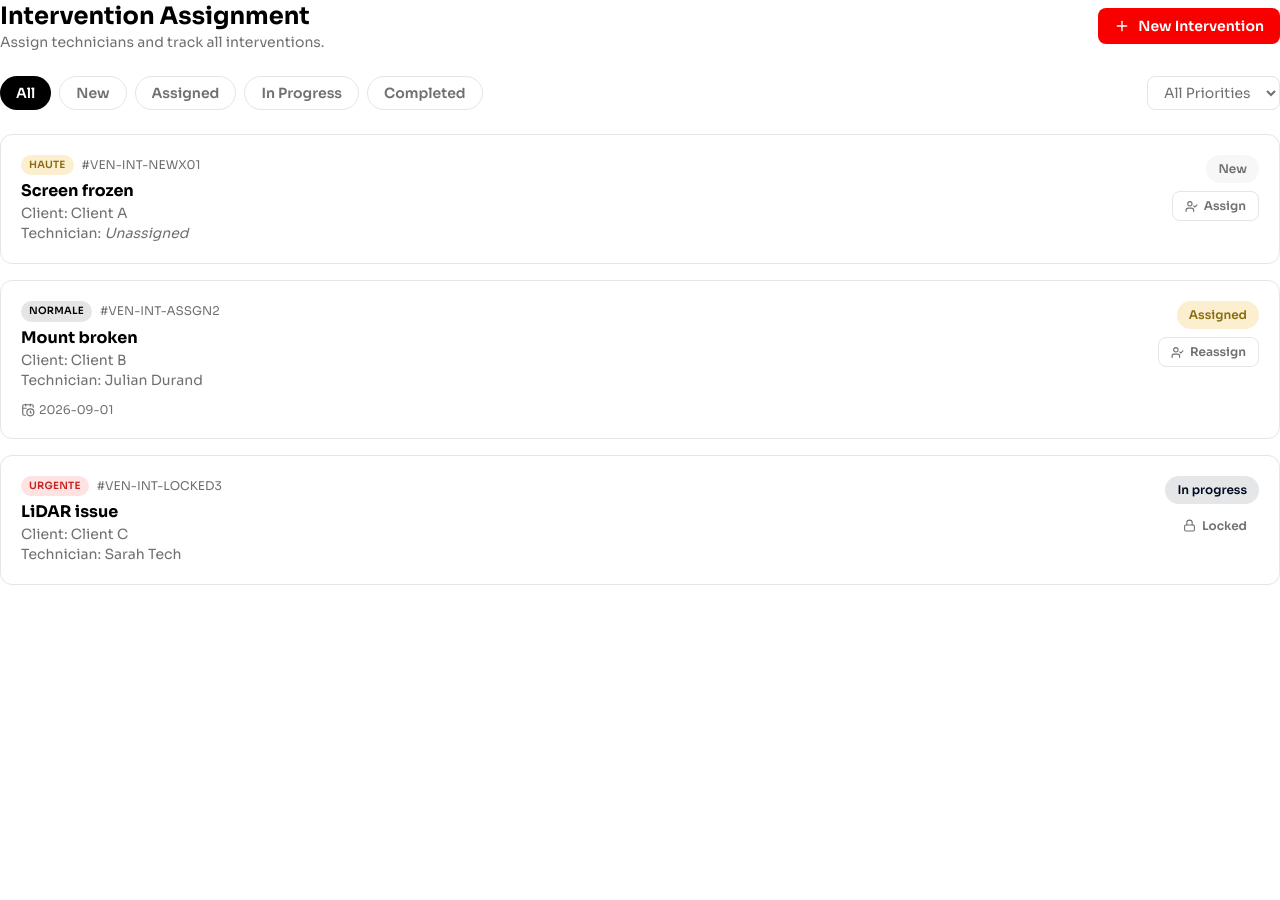
Test case: Admin InterventionAssignment › shows a generic error on a non-422 intervention creation failure
Check: the heading "Screen frozen" is shown, box left=21, top=180, right=134, bottom=201
Click the button "New Intervention": coordinates (1189, 26) left=1098, top=8, right=1279, bottom=44
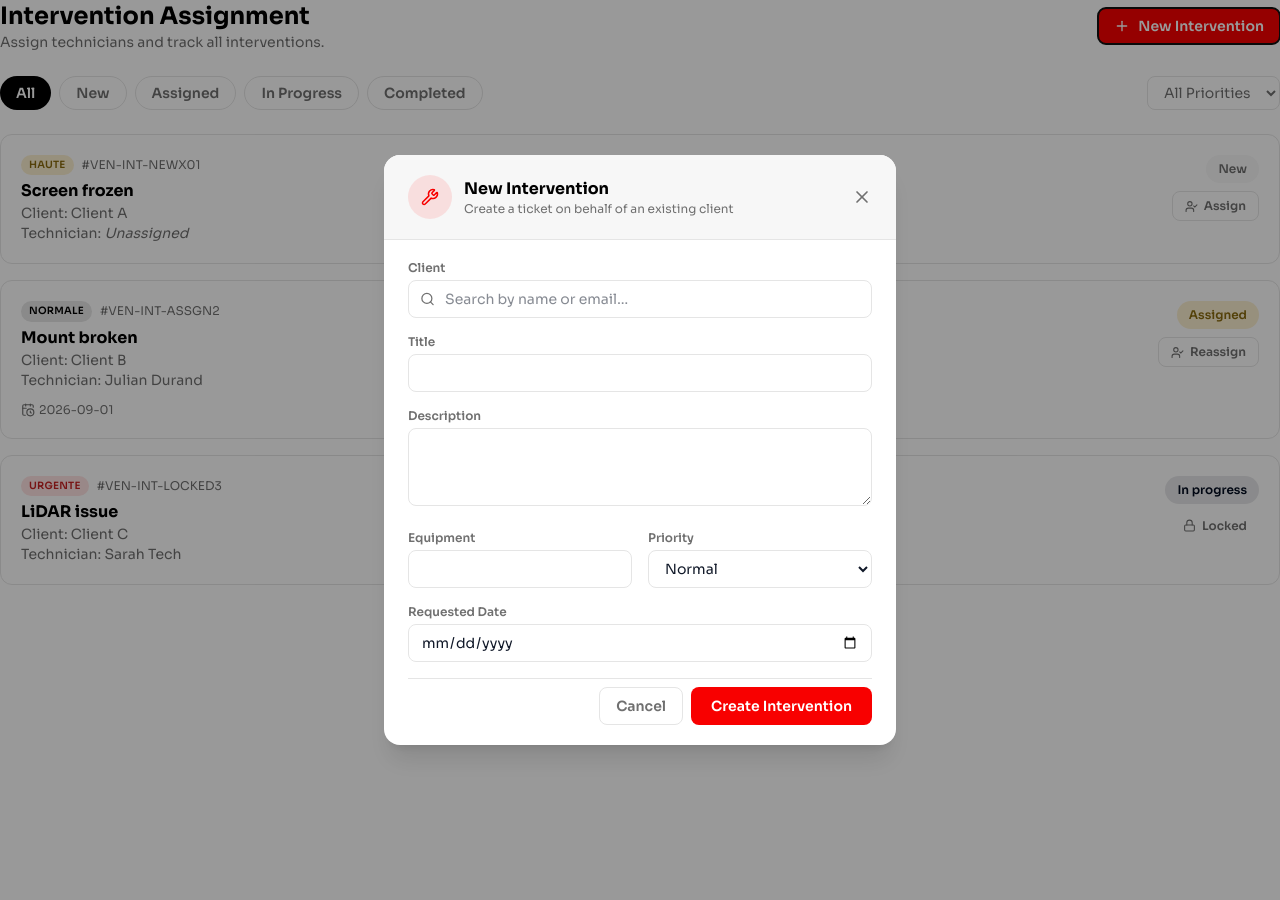
In the field labelled "Client": coordinates (640, 299) left=408, top=280, right=872, bottom=318, type "Elena"
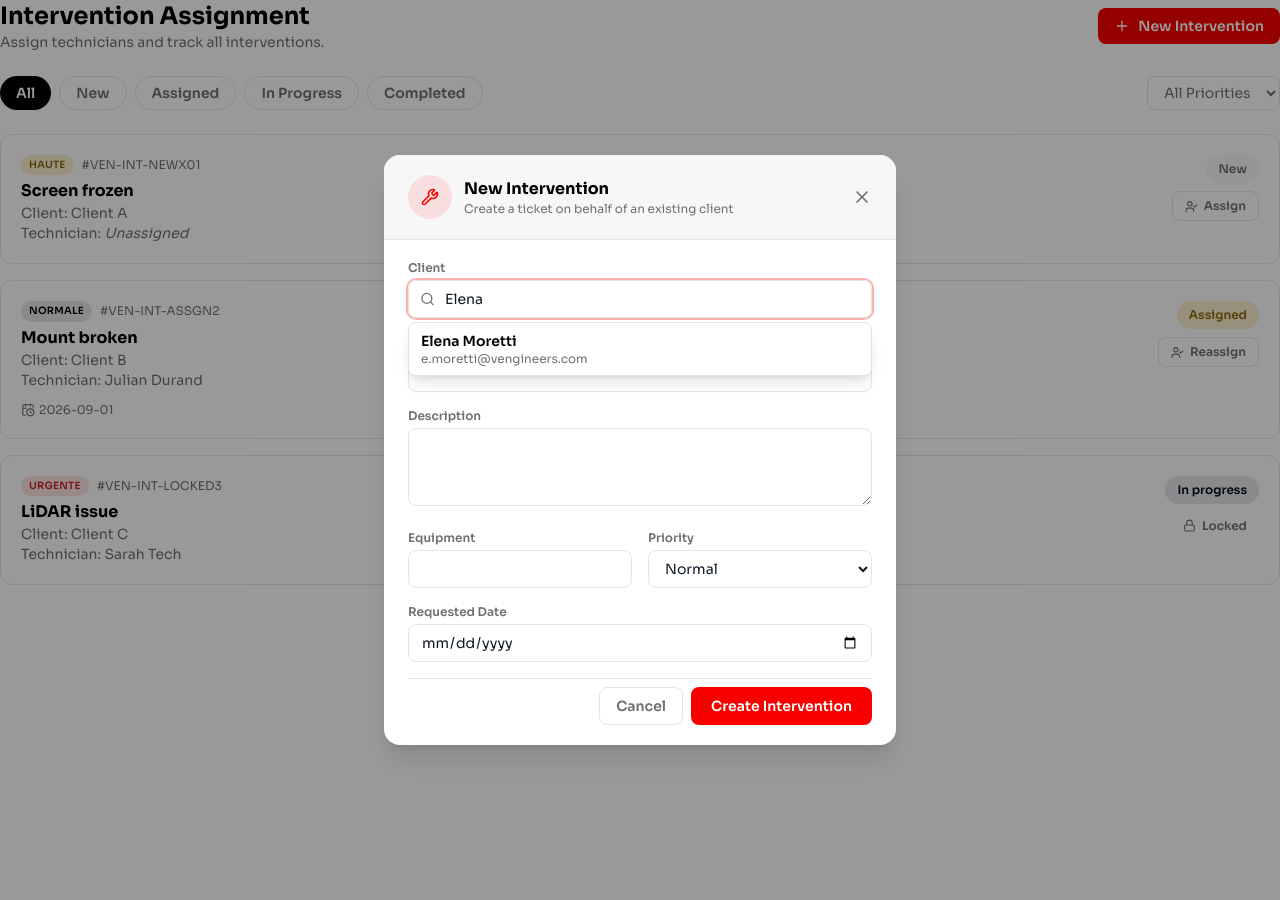
Click the text "Elena Moretti": coordinates (469, 341) left=421, top=332, right=517, bottom=350
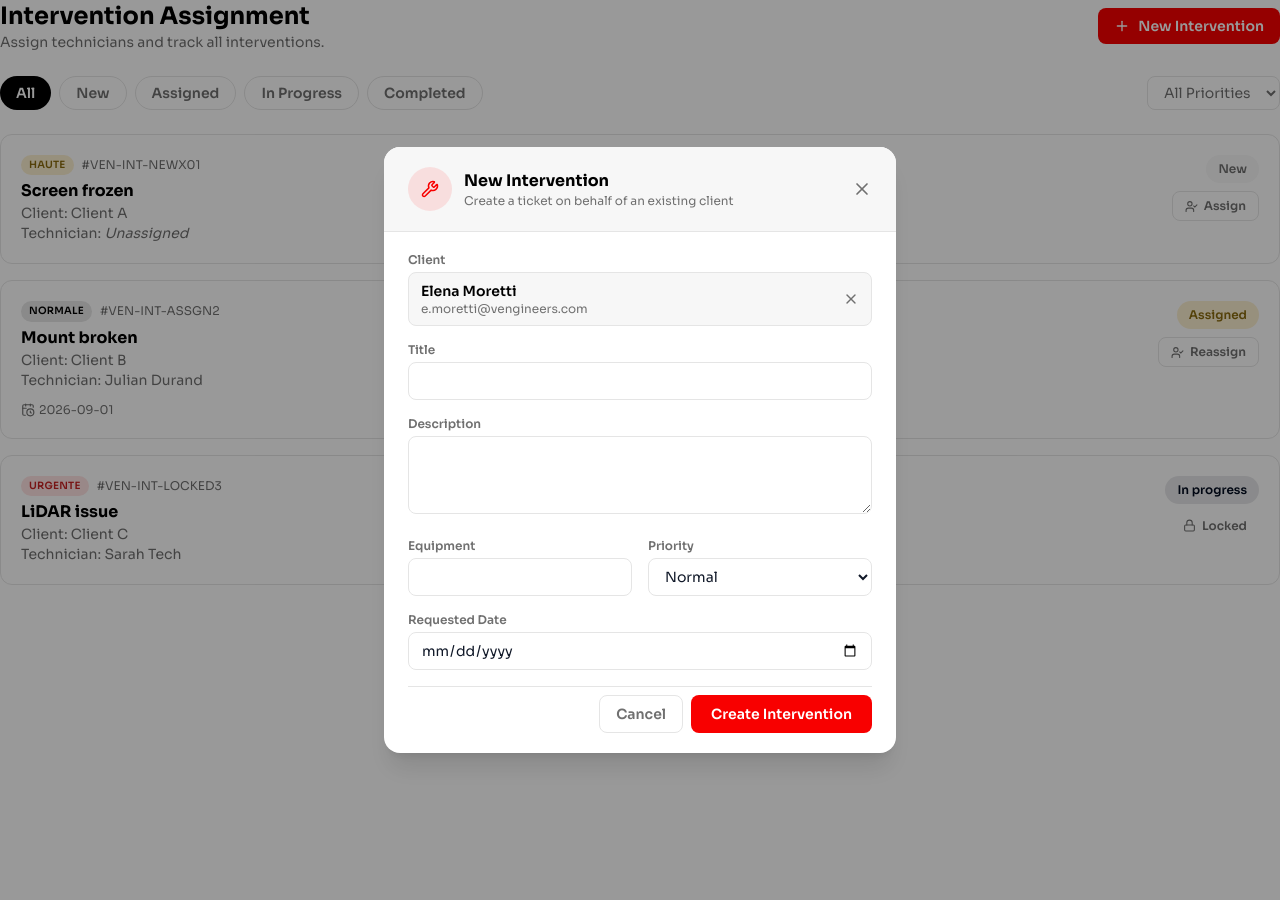
In the field labelled "Title": coordinates (640, 381) left=408, top=362, right=872, bottom=400, type "Broken thing"
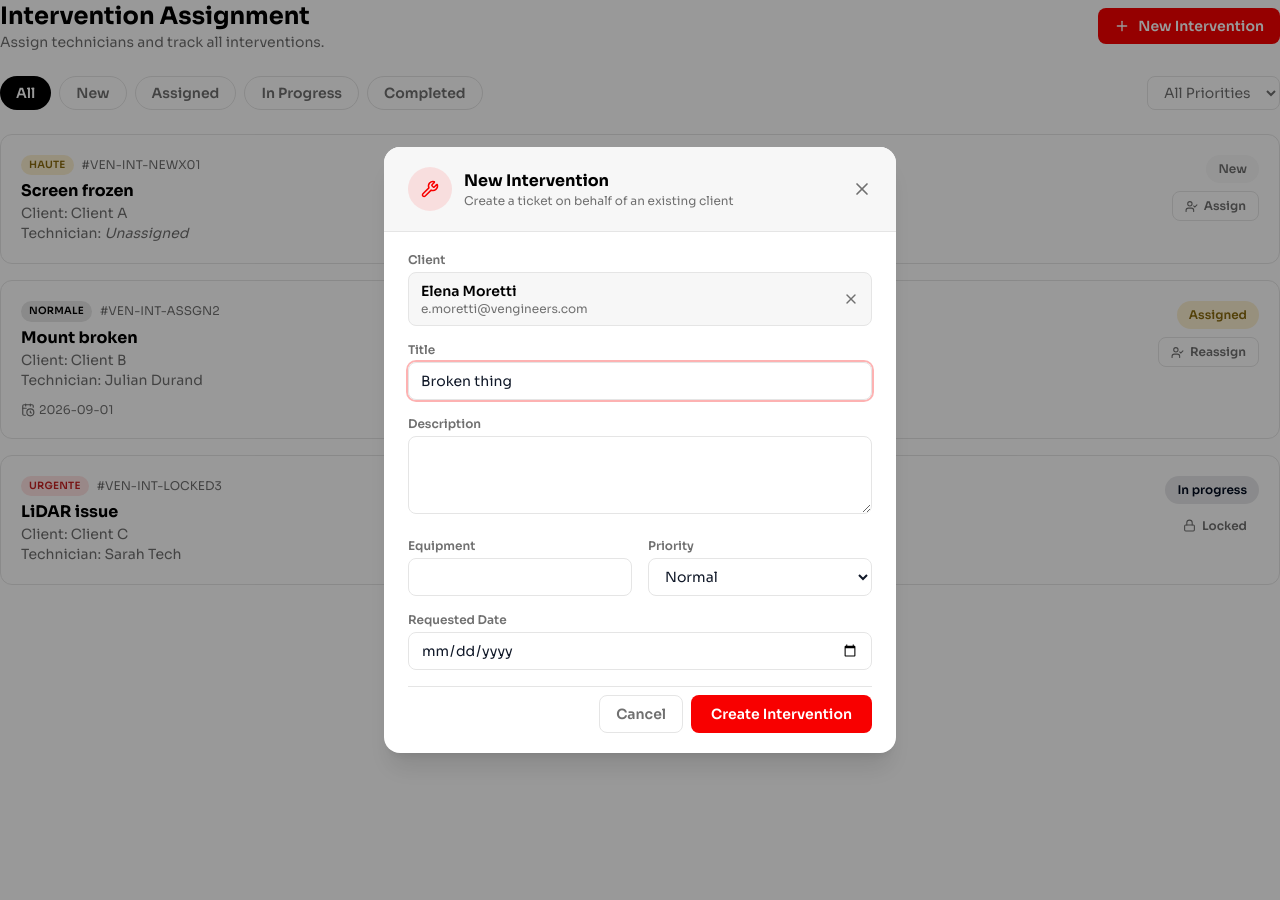
In the text box labelled "Description": coordinates (640, 475) left=408, top=436, right=872, bottom=514, type "Some description."
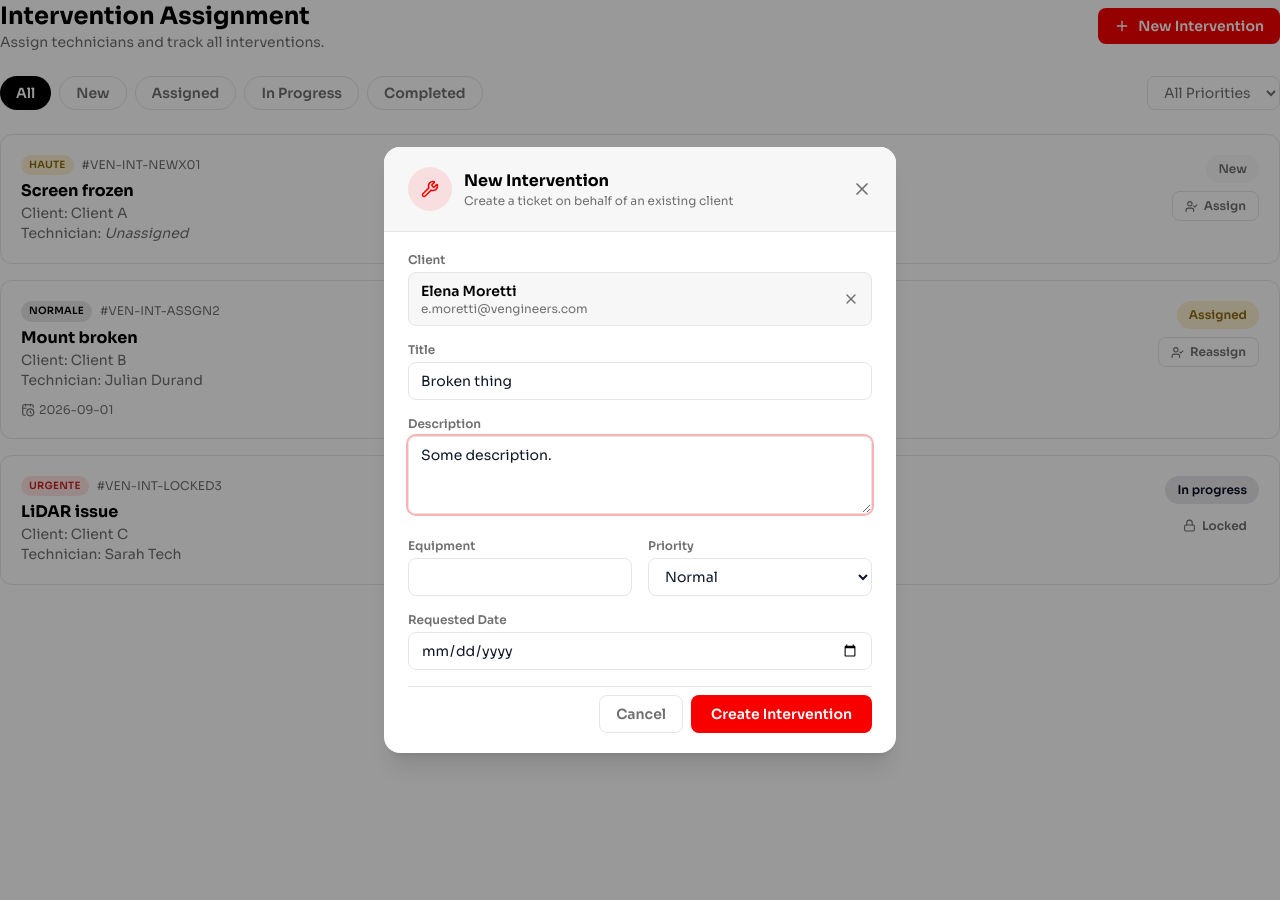
Click the button "Create Intervention": coordinates (782, 714) left=691, top=695, right=872, bottom=733
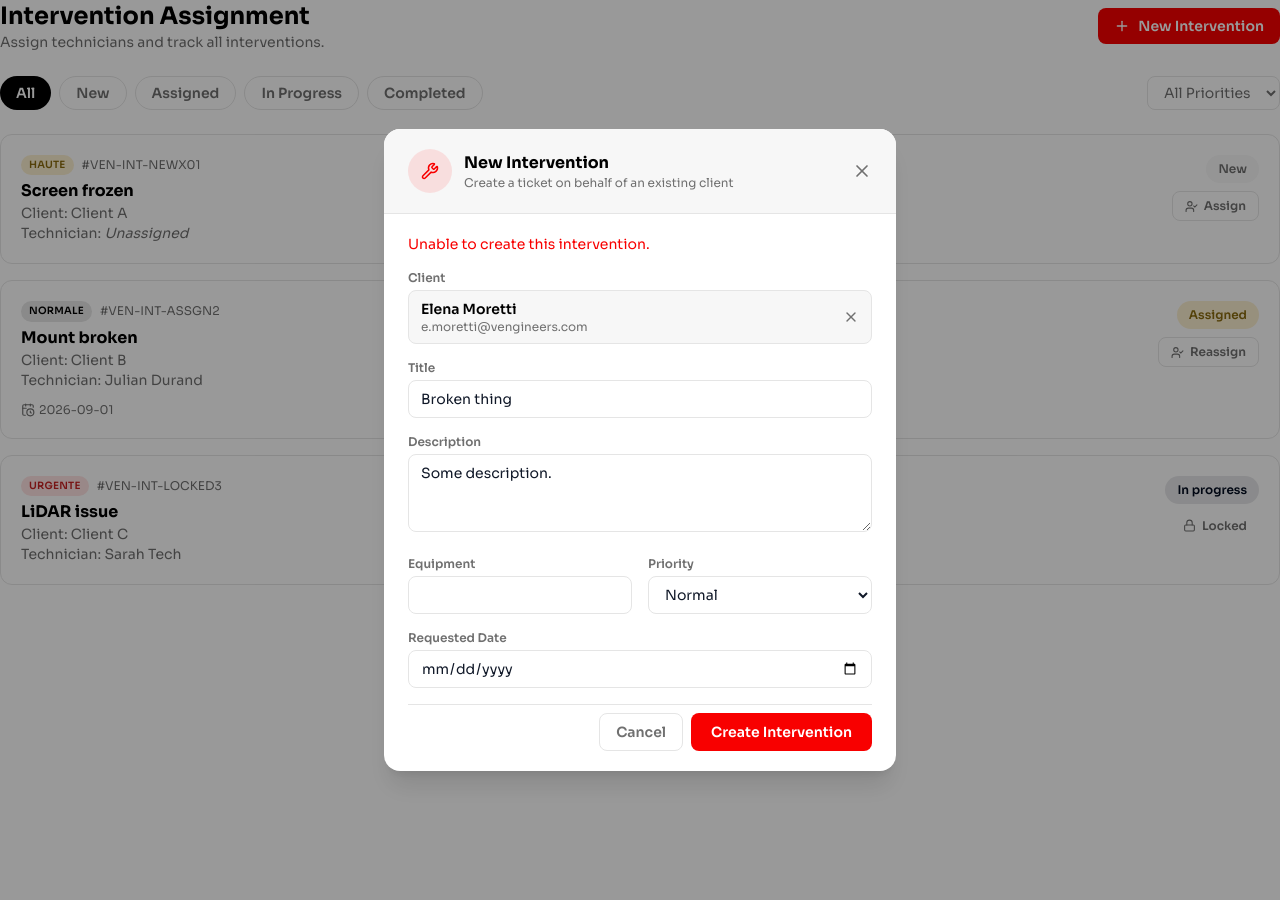
Check: the text "Unable to create this intervention." is shown, box left=408, top=235, right=650, bottom=253
